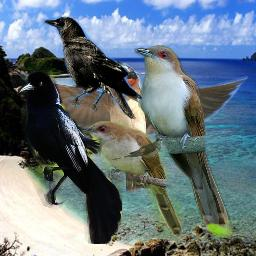Crow: (18, 69, 122, 244), (39, 15, 143, 121)
Cuckoo: (134, 45, 234, 239), (73, 121, 182, 237), (110, 137, 162, 161)
Swallow: (15, 63, 248, 193)
